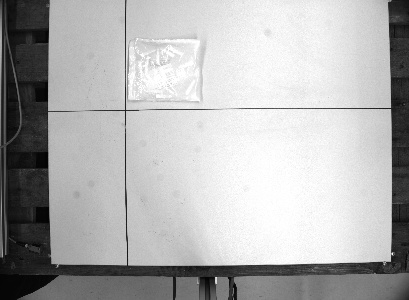t3: (124, 34, 206, 104)
